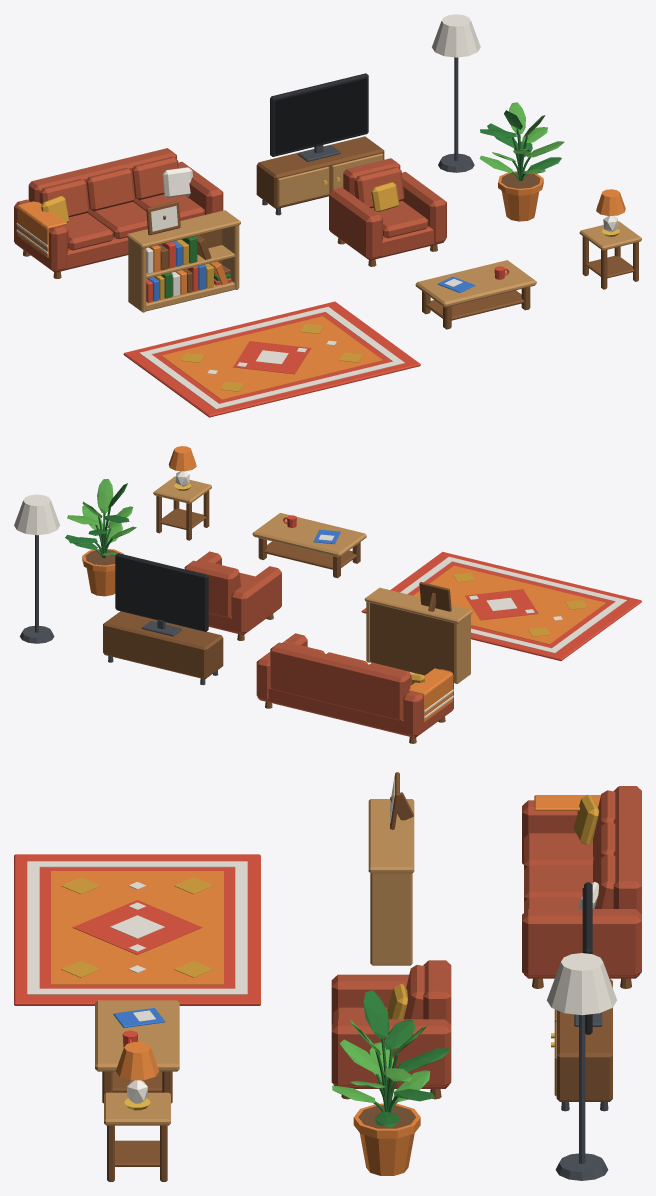
Rendered from cosy-living-room-set.glb.
3 views of the same model, one above another, from view 1: azimuth 30°, elevation 25°; view 2: azimuth 150°, elevation 25°; view 3: azimuth 270°, elevation 25° (orthographic). The views are drawn at different scales.
Parts seen in each view (by area): view 1: Rug_Field, Rug_Base, TV_Screen, MediaStand_Body, CoffeeTable_Top, Armchair_Arm_L, Bookcase_Top, Sofa_Back, Sofa_BackCushion2, Armchair_Arm_R, FloorLamp_Shade, MediaStand_Door_L (+32 smaller); view 2: Sofa_Back, TV_Body, Rug_Field, MediaStand_Body, Bookcase_Back, Rug_Base, CoffeeTable_Top, Armchair_Arm_L, Sofa_Base, Armchair_Back, Bookcase_Top, FloorLamp_Shade (+18 smaller); view 3: Rug_Field, Rug_Base, Sofa_Arm_R, Armchair_Arm_R, CoffeeTable_Top, MediaStand_Body, Bookcase_Side_R, Sofa_Back, FloorLamp_Shade, Bookcase_Top, Rug_Medallion, Sofa_SeatCushion1 (+30 smaller).
Part boxes in pixels (x1,y1,x2,y2): Rug_Field: (161,316,382,399); Rug_Base: (123,301,420,417); TV_Screen: (275,78,366,154); MediaStand_Body: (256,136,384,209); CoffeeTable_Top: (415,260,536,307); Armchair_Arm_L: (329,187,382,258); Bookcase_Top: (126,210,240,248); Sofa_Back: (28,148,176,202); Sofa_BackCushion2: (85,168,135,211); Armchair_Arm_R: (402,171,446,242); FloorLamp_Shade: (432,14,480,57); MediaStand_Door_L: (278,166,329,206); Sofa_Back: (270,642,410,720); TV_Body: (115,553,208,631); Rug_Field: (413,565,605,644); MediaStand_Body: (103,611,223,679); Bookcase_Back: (370,603,454,682); Rug_Base: (361,551,641,660); CoffeeTable_Top: (252,513,366,557); Armchair_Arm_L: (231,566,281,633); Sofa_Base: (257,687,452,737); Armchair_Back: (184,560,238,617); Bookcase_Top: (364,587,472,623); FloorLamp_Shade: (14,494,59,535); Rug_Field: (51,871,223,984); Rug_Base: (14,854,260,1005); Sofa_Arm_R: (522,909,641,975); Armchair_Arm_R: (331,1019,451,1085); CoffeeTable_Top: (95,1000,179,1071); MediaStand_Body: (556,978,612,1101); Bookcase_Side_R: (370,873,412,965); Sofa_Back: (613,786,641,914); FloorLamp_Shade: (547,953,617,1015); Bookcase_Top: (368,799,414,873); Rug_Medallion: (72,900,202,954); Sofa_SeatCushion1: (524,833,593,869).
Bounding box in the file's own units: 22.68 × 6.5 × 17.8.
